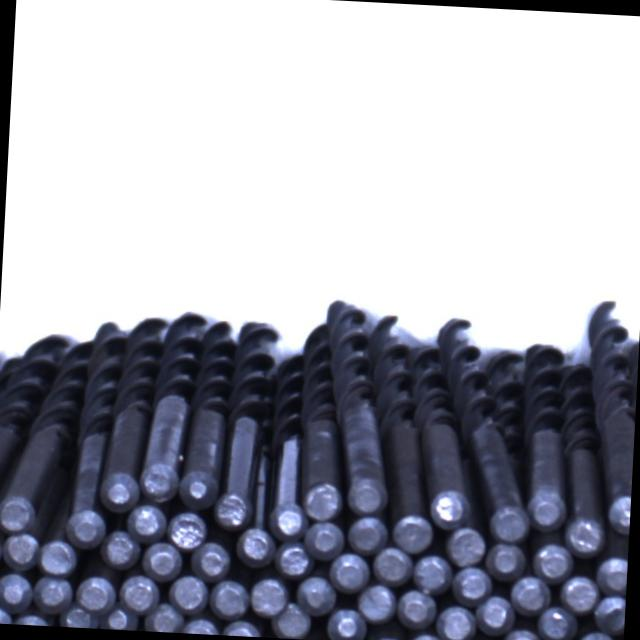tool: (413, 553, 455, 595), (532, 540, 574, 582), (100, 470, 142, 512), (562, 512, 604, 554), (248, 575, 290, 616), (392, 512, 433, 553), (100, 529, 141, 570), (474, 594, 514, 636), (510, 574, 552, 614), (238, 528, 278, 570), (526, 492, 568, 532), (119, 572, 160, 612), (328, 552, 369, 592), (142, 540, 183, 580), (355, 584, 396, 624), (346, 514, 387, 554), (396, 588, 437, 628), (487, 540, 528, 580), (138, 462, 178, 503), (214, 488, 253, 530), (372, 546, 412, 586), (168, 574, 208, 614), (210, 578, 250, 618), (168, 510, 208, 550), (34, 574, 74, 614), (298, 574, 338, 614), (66, 508, 106, 548), (448, 528, 488, 568), (179, 468, 219, 508), (270, 601, 311, 640), (192, 541, 232, 580), (453, 564, 493, 603), (76, 574, 117, 612), (429, 487, 467, 528), (303, 479, 342, 518), (306, 520, 346, 558), (126, 506, 166, 544), (560, 574, 599, 612), (3, 532, 42, 570), (40, 538, 80, 575), (434, 604, 475, 640), (274, 540, 312, 578), (0, 493, 36, 533), (537, 606, 578, 640), (0, 571, 34, 612), (593, 592, 626, 634), (491, 507, 529, 543), (142, 601, 184, 633), (327, 607, 367, 640), (272, 502, 304, 540), (599, 556, 628, 593), (100, 605, 140, 631), (61, 604, 98, 629), (222, 618, 263, 638), (180, 616, 222, 635), (12, 612, 52, 626), (502, 627, 542, 640), (576, 630, 616, 640), (409, 632, 450, 640), (0, 606, 13, 624), (367, 635, 408, 640)
